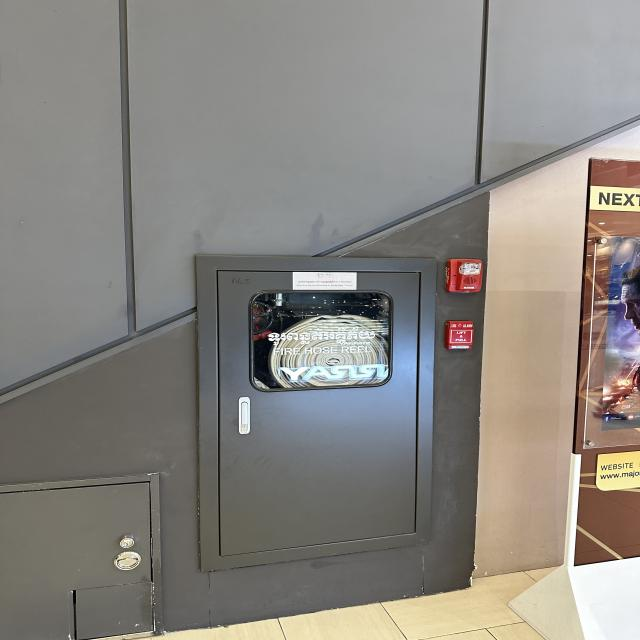Yolov11_80vkh: (262, 321, 382, 347)
